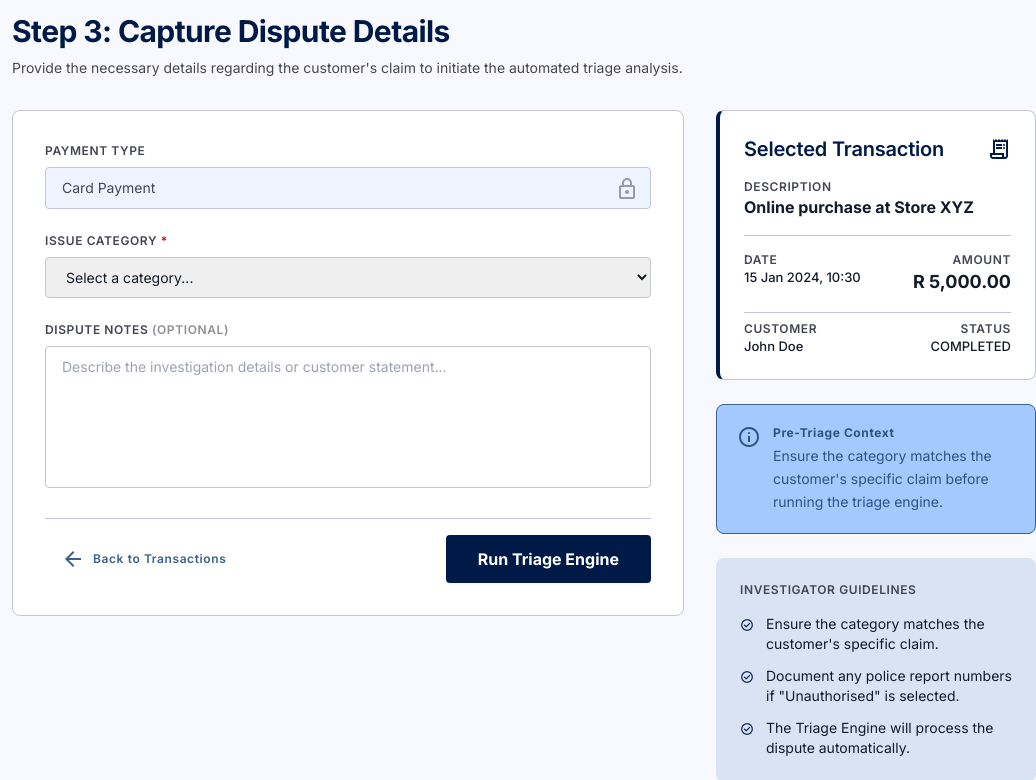
Scenario: DisputeCaptureForm › clears validation error when selecting an issue category
Click the button with test id "submit-dispute-button" at (548, 559), box x1=446 y1=535 x2=651 y2=583
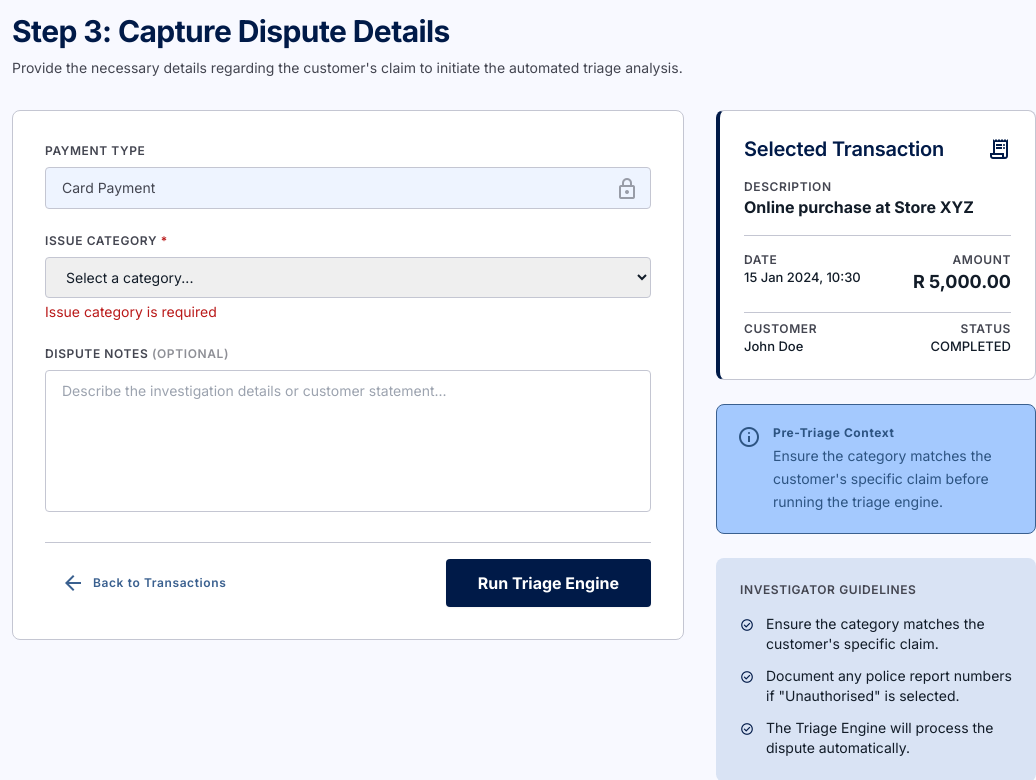
Expected: the text "Issue category is required" is shown, x1=45 y1=303 x2=217 y2=320
Select "Duplicate Debit" in the dropdown with test id "issue-category-select" at (348, 278), box x1=45 y1=257 x2=651 y2=298
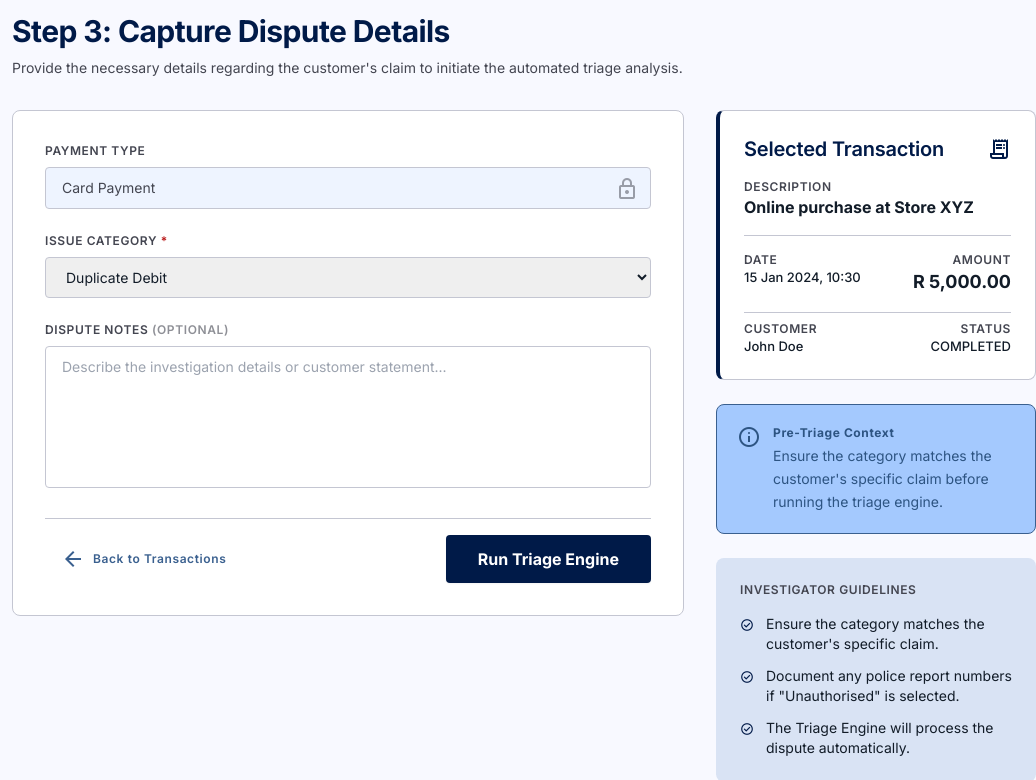
Expected: the text with test id "issue-category-error" is gone
